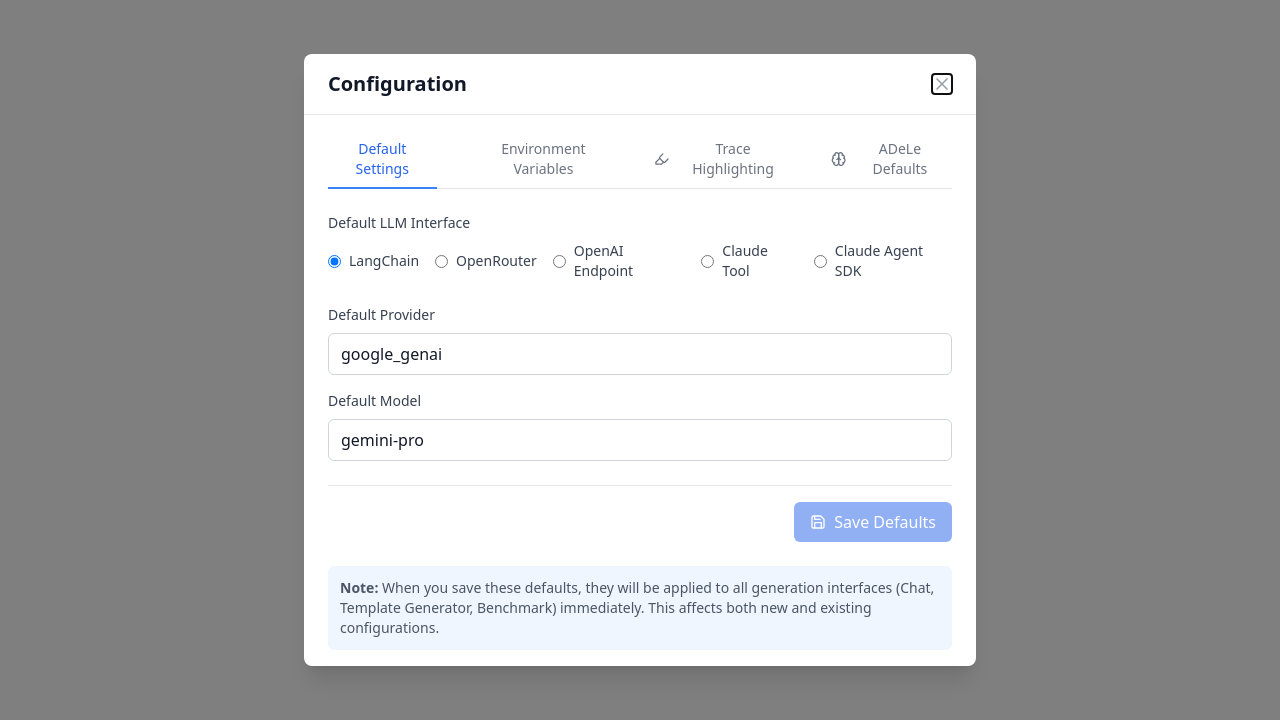
Ground Truth Exposure Toggle › renders the ground truth exposure toggle
The width and height of the screenshot is (1280, 720).
// Click on the Environment Variables tab
Click the button "Environment Variables" at (543, 160), box x1=468 y1=131 x2=618 y2=189
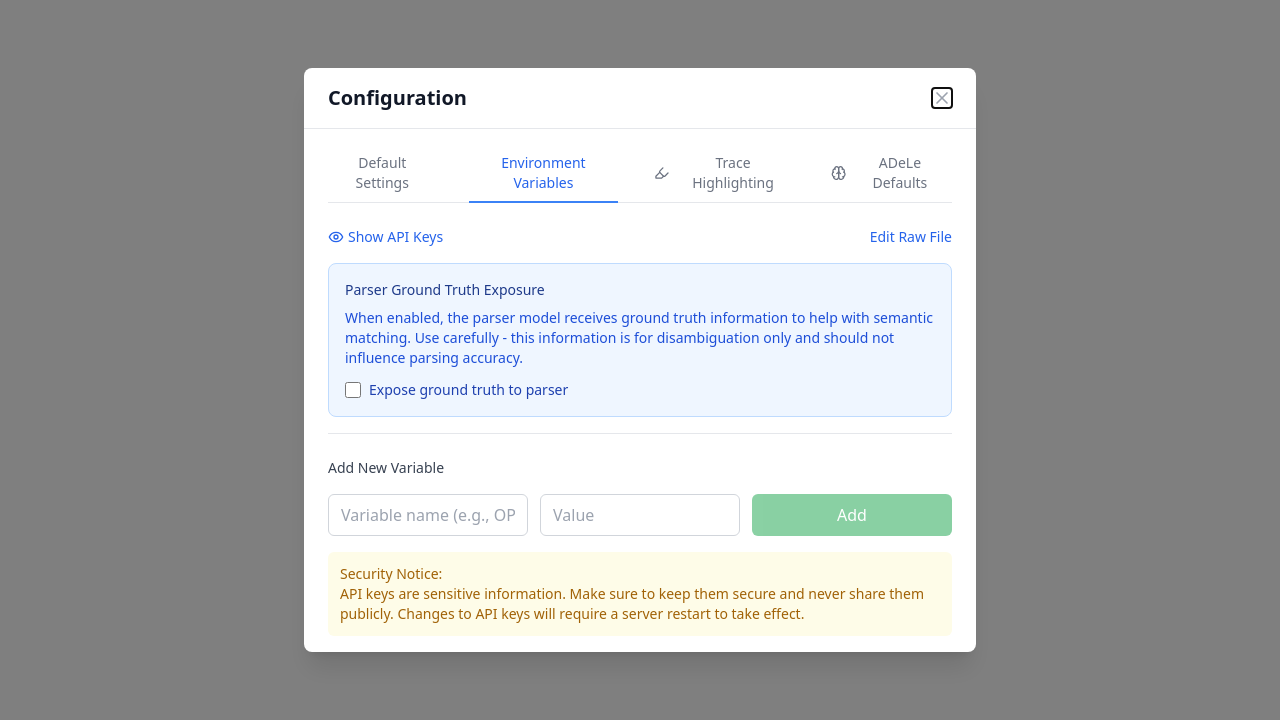
Now the heading "Parser Ground Truth Exposure" is shown, box x1=345 y1=280 x2=545 y2=299
Now the text "When enabled, the parser model receives ground truth information" is shown, box x1=345 y1=308 x2=933 y2=367
Now the text "Expose ground truth to parser" is shown, box x1=369 y1=380 x2=568 y2=400
